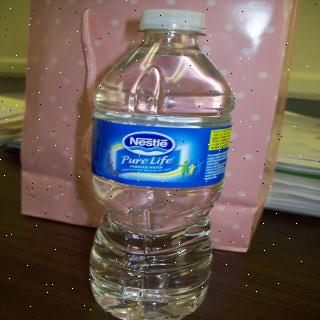Plastic-bottle: (81, 7, 238, 320)
